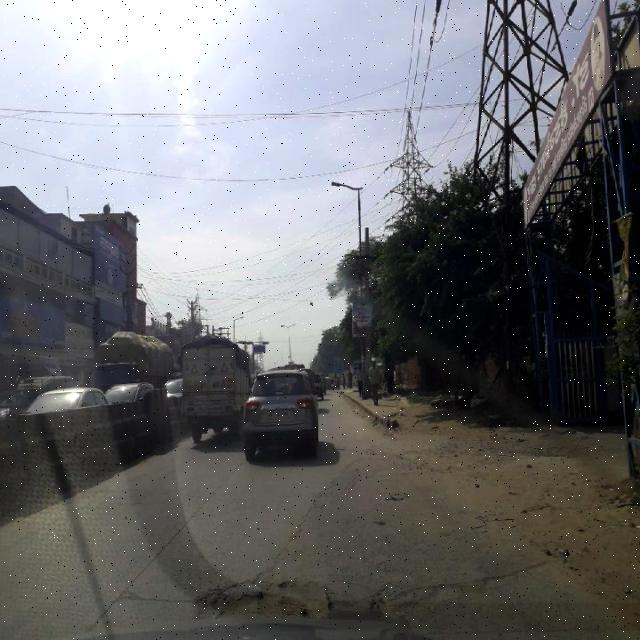D00: (276, 462, 350, 564)
D01: (111, 468, 234, 610)
D11: (103, 552, 563, 615)
D40: (173, 560, 487, 625)
